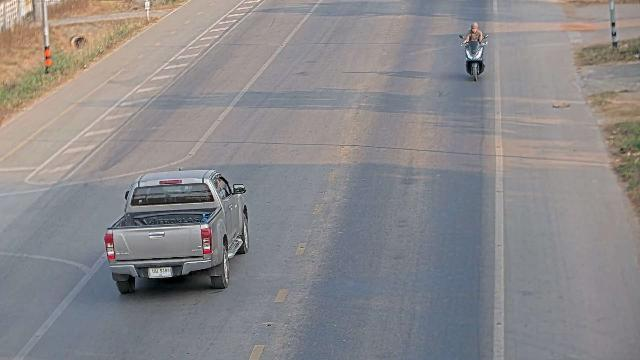motorcycle: (458, 32, 491, 83)
pickup-truck: (103, 167, 249, 294)
